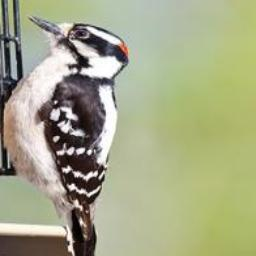Woodpecker: (0, 15, 133, 256)
